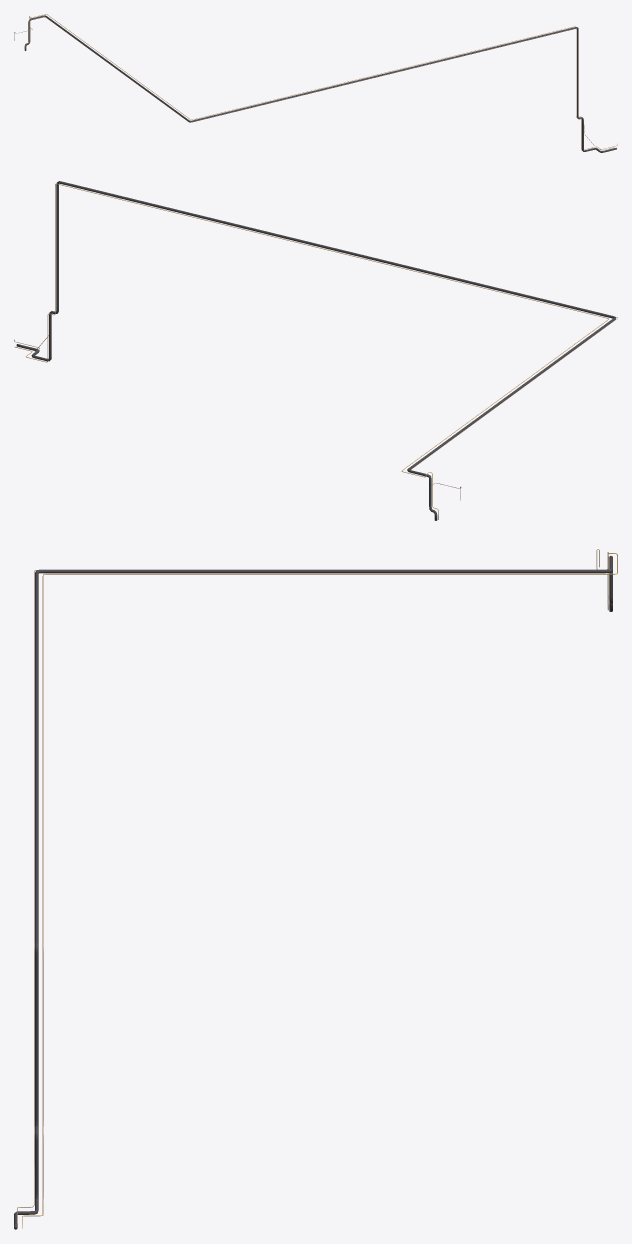
File: slab_pipes_hvac__hvac-split_furnace_92.glb
3 views of the same model, one above another, from view 1: azimuth 30°, elevation 25°; view 2: azimuth 150°, elevation 25°; view 3: azimuth 270°, elevation 25° (orthographic). The views are drawn at different scales.
Parts seen in each view (by area): view 1: pipe_hvac_lineset_suction_ra15ay36, pipe_hvac_lineset_liquid_ra15ay36, pipe_hvac_lineset_tstat_cable_ra15ay36; view 2: pipe_hvac_lineset_suction_ra15ay36, pipe_hvac_lineset_liquid_ra15ay36; view 3: pipe_hvac_lineset_suction_ra15ay36, pipe_hvac_lineset_liquid_ra15ay36.
Boxes of the visible parts, bbox=[...] form: pipe_hvac_lineset_suction_ra15ay36: bbox=[24, 15, 616, 152]; pipe_hvac_lineset_liquid_ra15ay36: bbox=[25, 14, 614, 150]; pipe_hvac_lineset_tstat_cable_ra15ay36: bbox=[14, 16, 617, 149]; pipe_hvac_lineset_suction_ra15ay36: bbox=[16, 181, 615, 520]; pipe_hvac_lineset_liquid_ra15ay36: bbox=[15, 183, 608, 519]; pipe_hvac_lineset_suction_ra15ay36: bbox=[14, 556, 612, 1229]; pipe_hvac_lineset_liquid_ra15ay36: bbox=[22, 552, 617, 1228].
Size of the model in its own units: 12.08 by 3.25 by 6.97.
